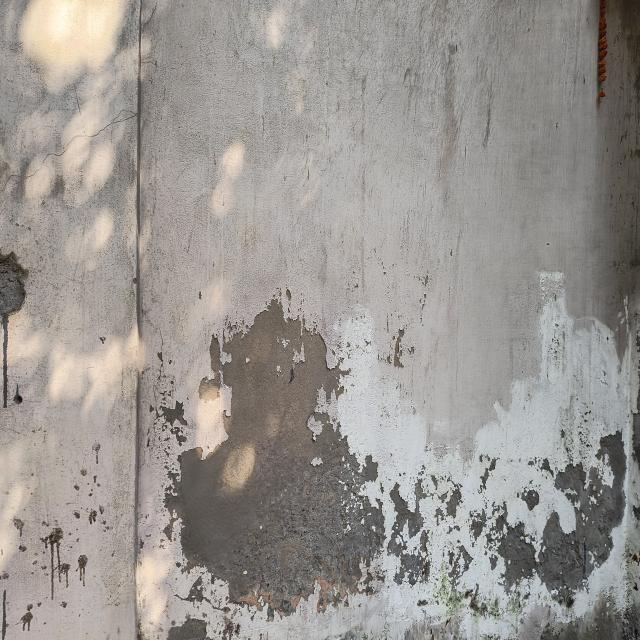peeling: (138, 274, 640, 640), (0, 252, 28, 316)
